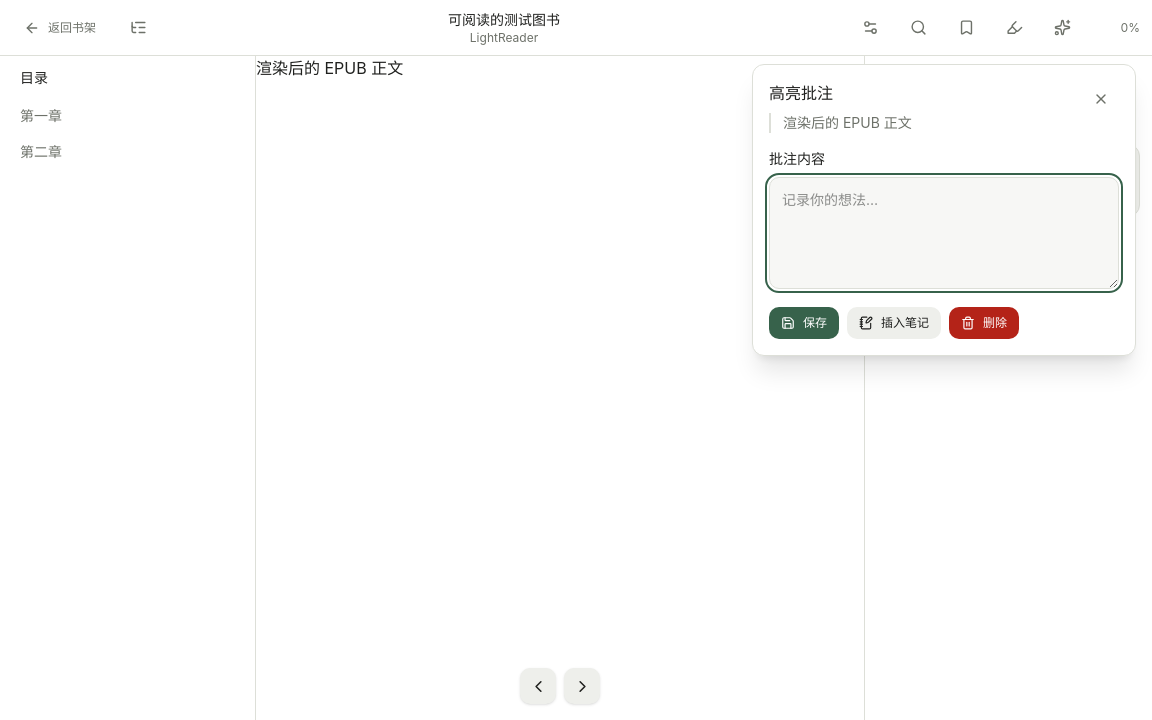
Scenario: ReaderPage › opens an activated highlight, saves a note, and deletes it
Expected: the text "渲染后的 EPUB 正文" next to "高亮与批注" is shown, [256,58,403,78]
Type "我的批注" into the text box labelled "批注内容" at (944, 233), box [769,177,1119,289]
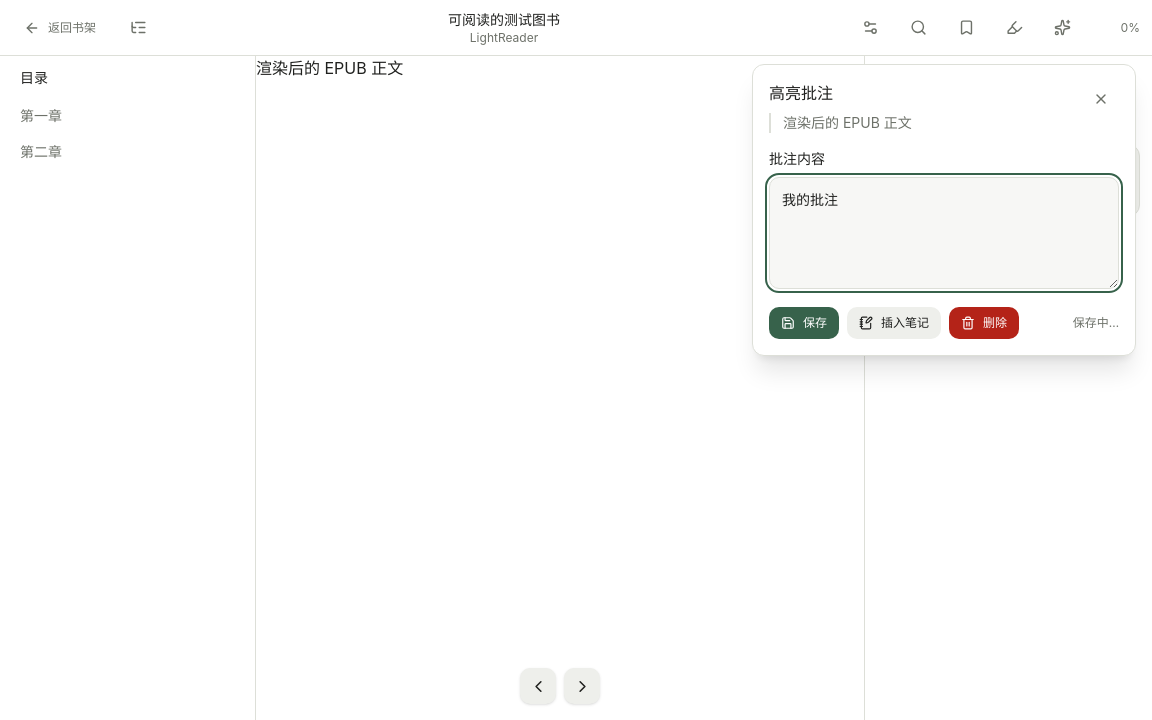
Click the button "保存" at (804, 323), box [769,307,839,339]
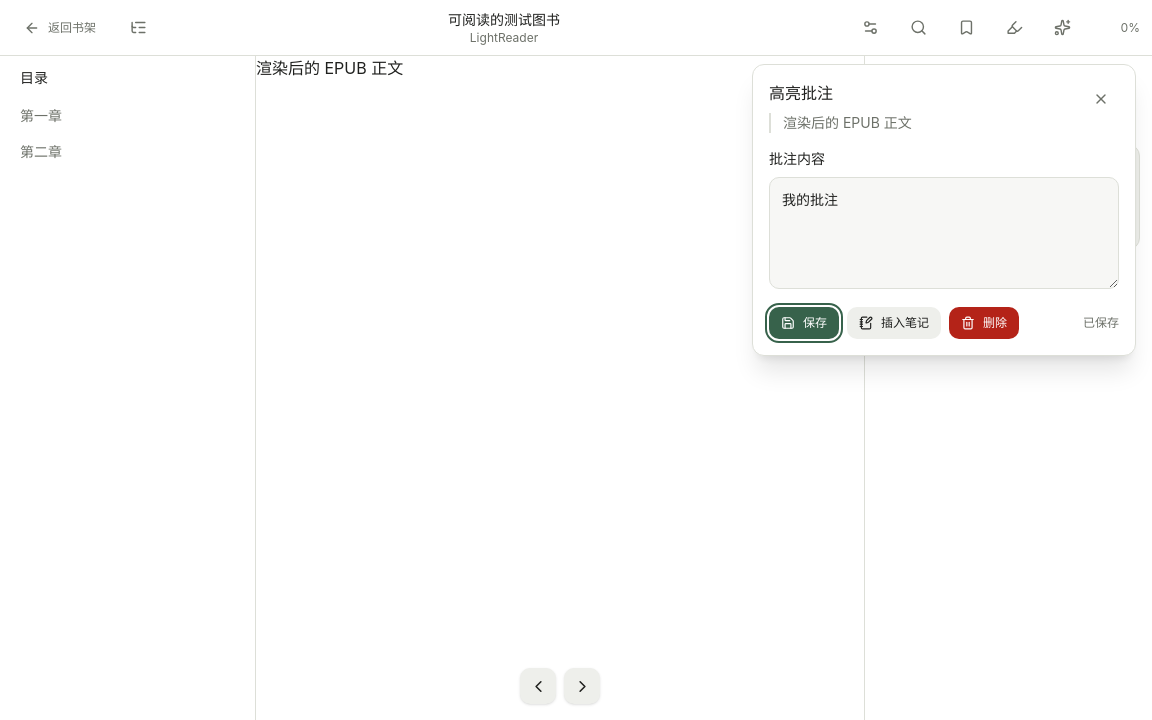
Click the button "删除" at (984, 323), box [949,307,1019,339]
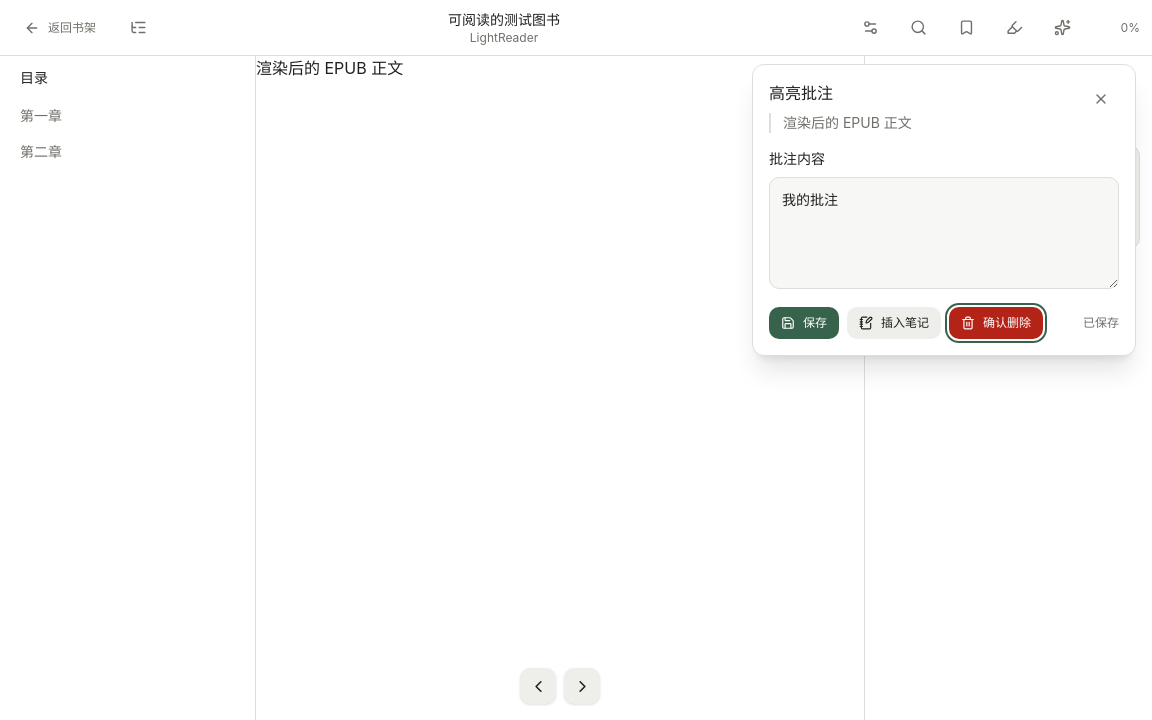
Click the button "确认删除" at (996, 323), box [949,307,1043,339]
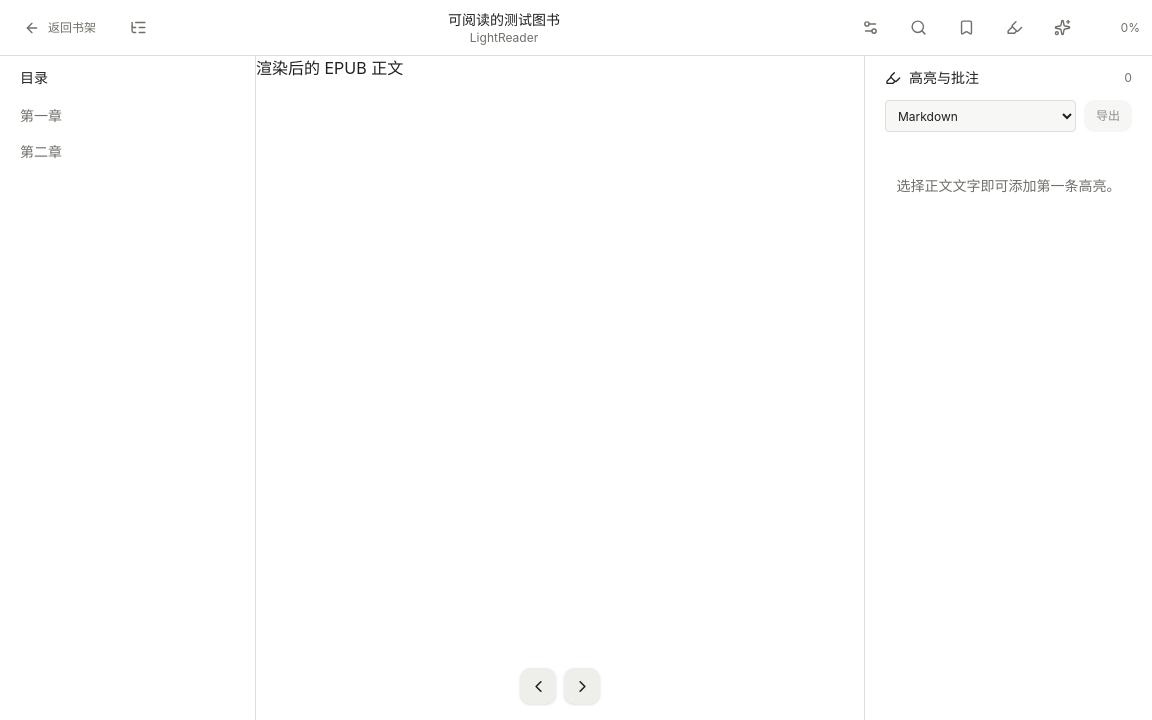
Expected: the label labelled "批注内容" is gone
